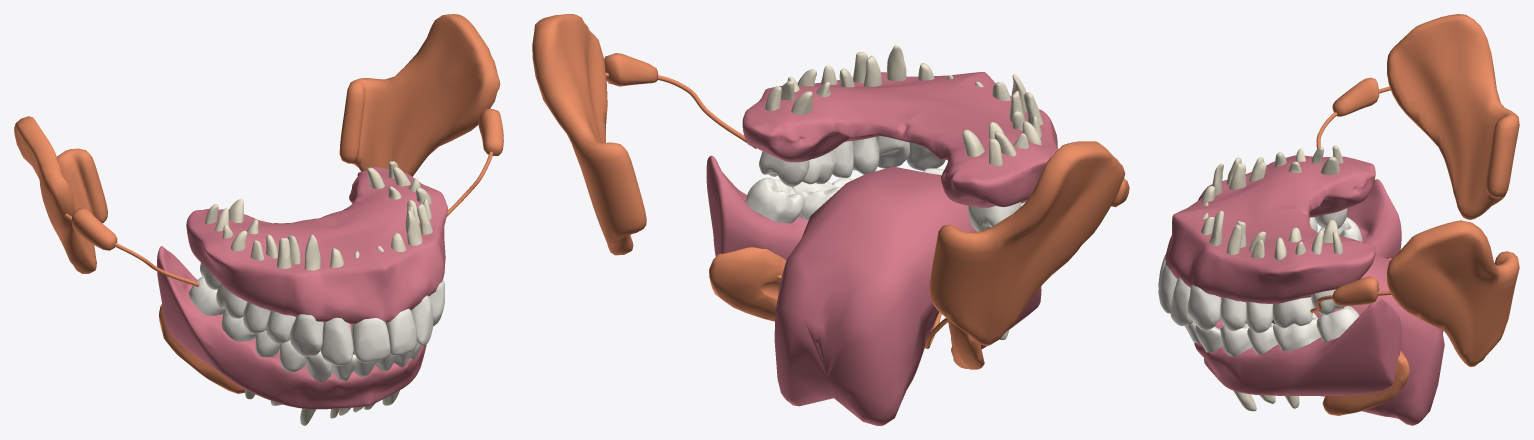
File: mouth.glb
The picture shows the model from 3 angles, left to right: view 1: azimuth 30°, elevation 25°; view 2: azimuth 150°, elevation 25°; view 3: azimuth 270°, elevation 25°; orthographic projection. The views are drawn at different scales.
Visible parts, largest first — view 1: Gingiva, Parotid gland (left), Parotid gland (right), Upper canine (right), Upper lateral incisor (right), Upper medial incisor (right), Upper first premolar (right), Submandibular gland (right), Upper first molar tooth (right), (Accessory parotid gland) (right), Upper medial incisor (left), Upper second premolar (right) (+11 smaller); view 2: Tongue, Gingiva, Parotid gland (right), Parotid gland (left), Submandibular gland (left), Upper second molar tooth (left), Upper second molar tooth (right), Lower second molar tooth (left), Upper first premolar (left), Upper canine (left), (Accessory parotid gland) (left), Upper first molar tooth (left) (+7 smaller); view 3: Gingiva, Parotid gland (right), Parotid gland (left), Tongue, Submandibular gland (left), Upper first molar tooth (left), Upper canine (left), Upper first premolar (left), (Accessory parotid gland) (right), Upper second premolar (left), Upper second molar tooth (left), (Accessory parotid gland) (left) (+11 smaller).
Part boxes in pixels (x1=…): Gingiva: x1=157, y1=166, x2=447, y2=409; Parotid gland (left): x1=339, y1=14, x2=500, y2=176; Parotid gland (right): x1=14, y1=116, x2=107, y2=274; Upper canine (right): x1=290, y1=234, x2=323, y2=356; Upper lateral incisor (right): x1=320, y1=248, x2=353, y2=365; Upper medial incisor (right): x1=351, y1=251, x2=390, y2=362; Upper first premolar (right): x1=266, y1=235, x2=300, y2=343; Submandibular gland (right): x1=159, y1=304, x2=244, y2=393; Upper first molar tooth (right): x1=216, y1=219, x2=258, y2=318; (Accessory parotid gland) (right): x1=72, y1=208, x2=117, y2=250; Upper medial incisor (left): x1=377, y1=246, x2=416, y2=355; Upper second premolar (right): x1=243, y1=234, x2=278, y2=334; Tongue: x1=774, y1=166, x2=977, y2=425; Gingiva: x1=706, y1=72, x2=1058, y2=349; Parotid gland (right): x1=929, y1=141, x2=1125, y2=345; Parotid gland (left): x1=532, y1=14, x2=646, y2=255; Submandibular gland (left): x1=709, y1=247, x2=786, y2=321; Upper second molar tooth (left): x1=759, y1=80, x2=812, y2=186; Upper second molar tooth (right): x1=962, y1=129, x2=1021, y2=231; Lower second molar tooth (left): x1=745, y1=177, x2=804, y2=223; Upper first premolar (left): x1=852, y1=52, x2=881, y2=174; Upper canine (left): x1=876, y1=45, x2=909, y2=168; (Accessory parotid gland) (left): x1=604, y1=53, x2=658, y2=86; Upper first molar tooth (left): x1=787, y1=69, x2=835, y2=184; Gingiva: x1=1165, y1=155, x2=1401, y2=395; Parotid gland (right): x1=1387, y1=14, x2=1519, y2=219; Parotid gland (left): x1=1387, y1=220, x2=1519, y2=366; Tongue: x1=1221, y1=254, x2=1444, y2=425; Submandibular gland (left): x1=1322, y1=351, x2=1409, y2=415; Upper first molar tooth (left): x1=1272, y1=227, x2=1314, y2=328; Upper canine (left): x1=1187, y1=210, x2=1223, y2=330; Upper first premolar (left): x1=1220, y1=221, x2=1246, y2=330; (Accessory parotid gland) (right): x1=1332, y1=77, x2=1379, y2=116; Upper second premolar (left): x1=1246, y1=231, x2=1273, y2=333; Upper second molar tooth (left): x1=1311, y1=220, x2=1344, y2=314; (Accessory parotid gland) (left): x1=1332, y1=276, x2=1379, y2=305.
Bounding box in the file's own units: 0.13 × 0.0796 × 0.09.
